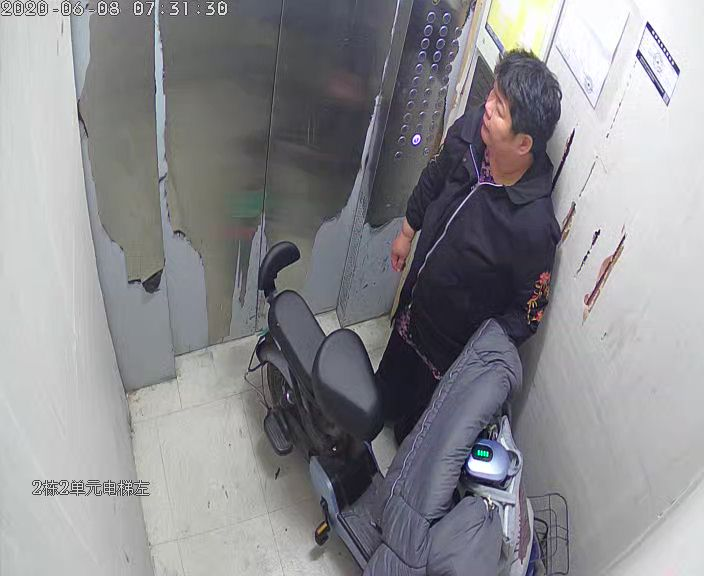Electric-bicycle: (243, 236, 568, 575)
